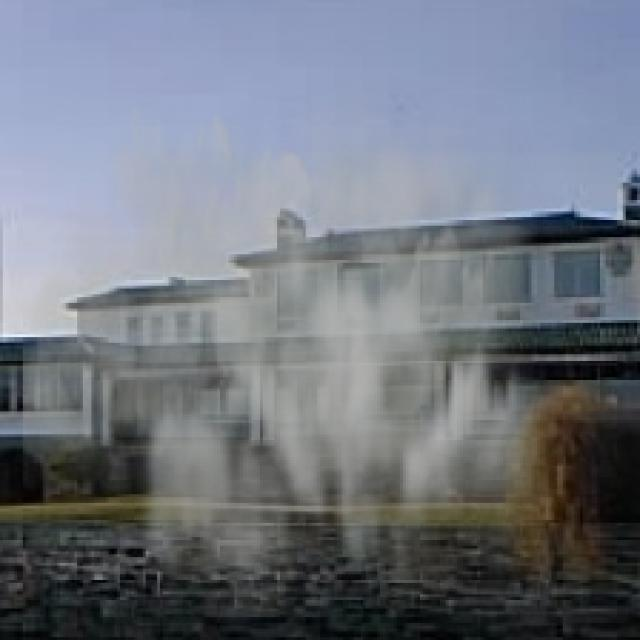smoke: (23, 49, 577, 617)
